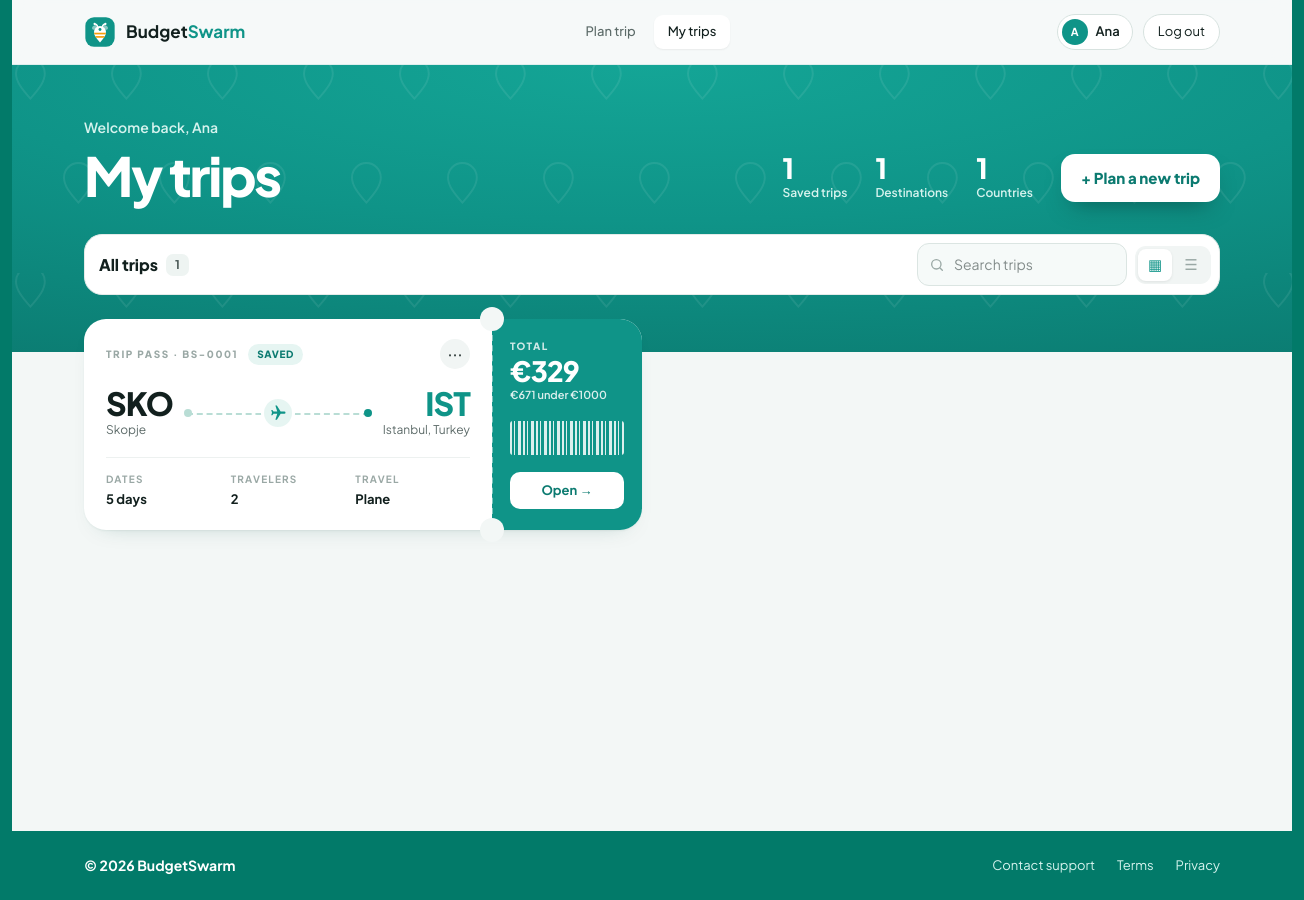
Scenario: MyTripsPage › deletes a trip optimistically and can undo
Expected: the text "Istanbul, Turkey" is shown, 383,421 -> 470,439
Click the button named "trip actions" at (455, 354), box 440,339 -> 470,369
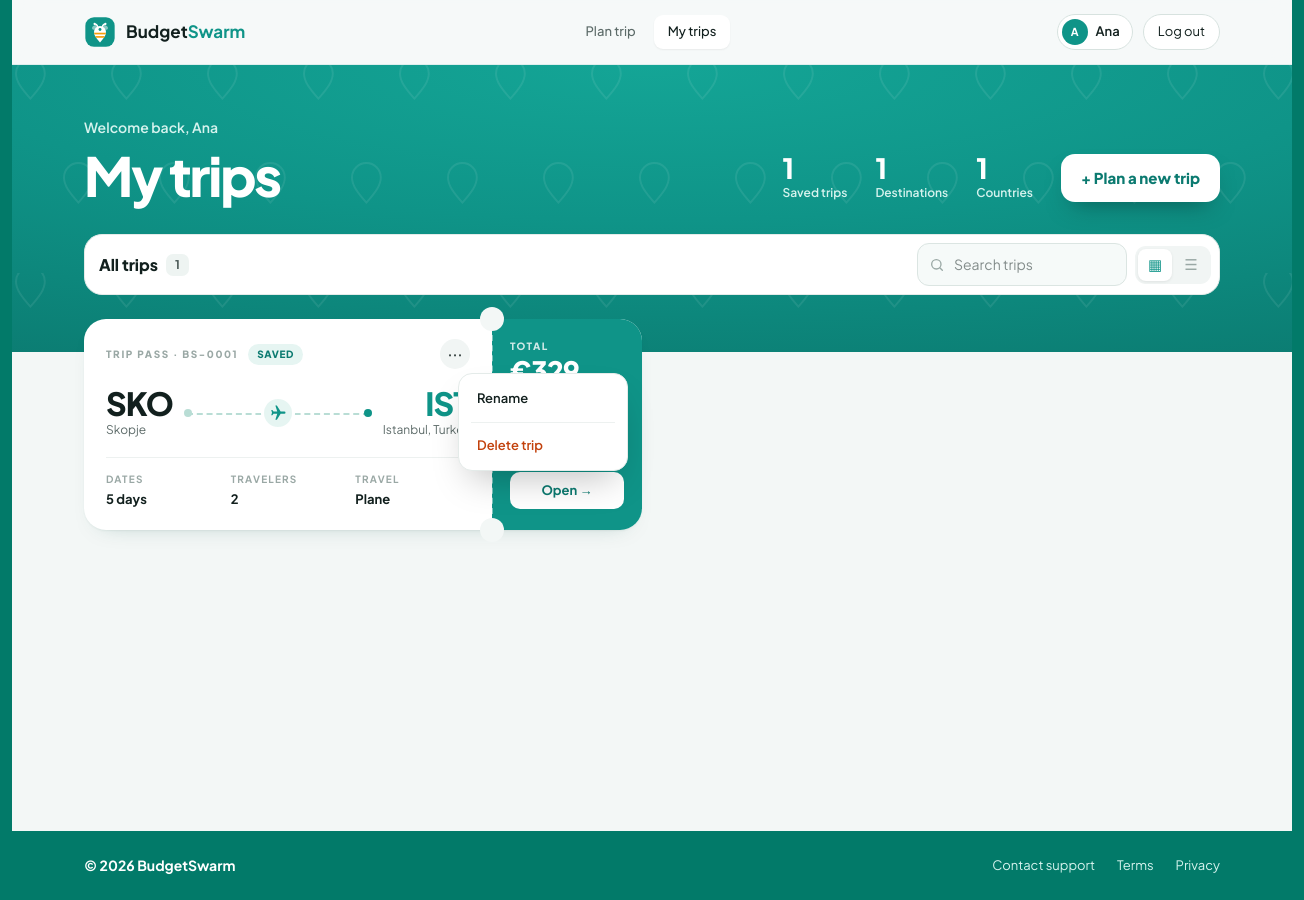
Click the menu item "Delete trip" at (543, 445), box 465,426 -> 621,464
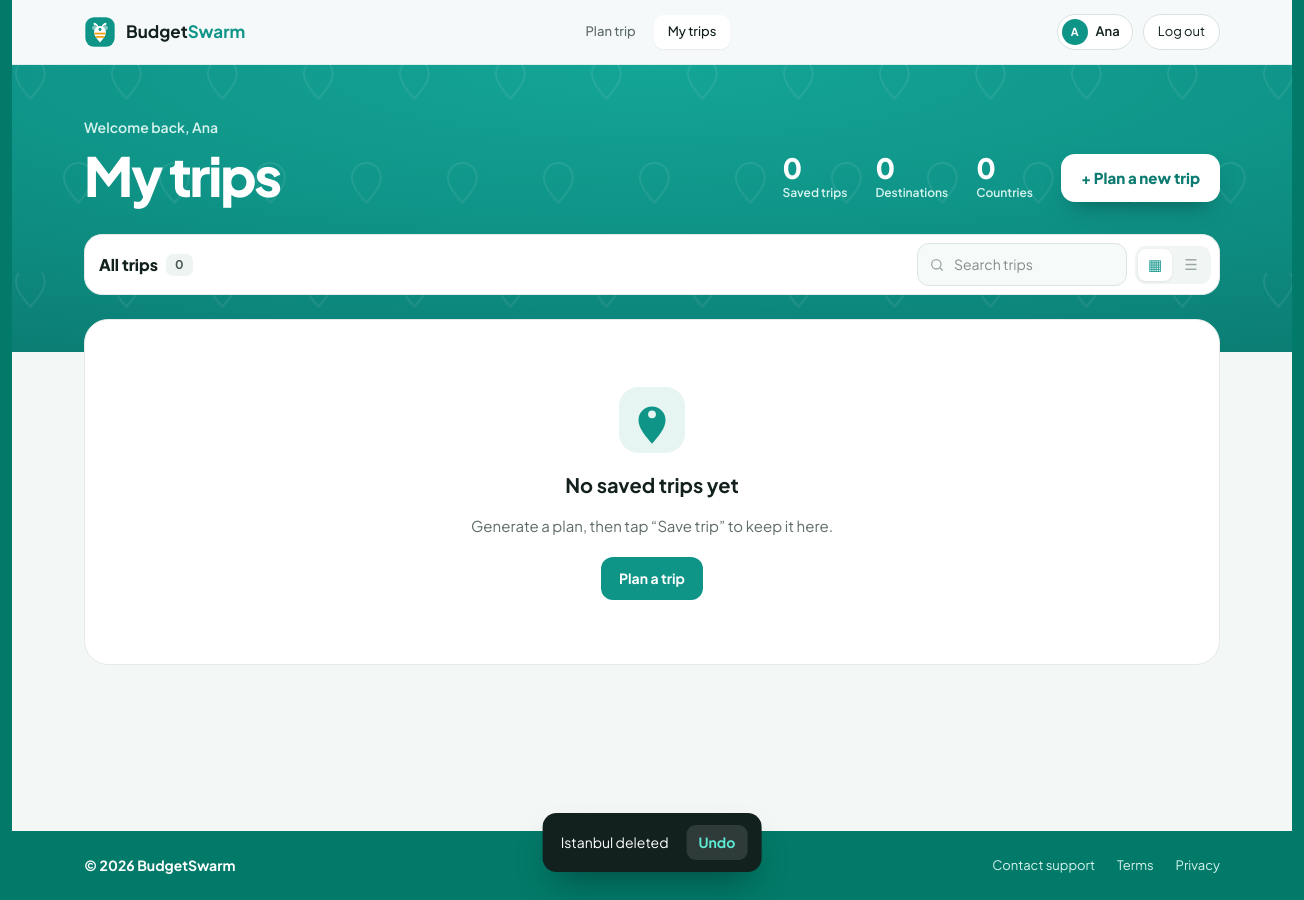
Expected: the text "Istanbul deleted" is shown, 561,832 -> 668,853
Click the button "Undo" at (717, 842), box 686,825 -> 747,860
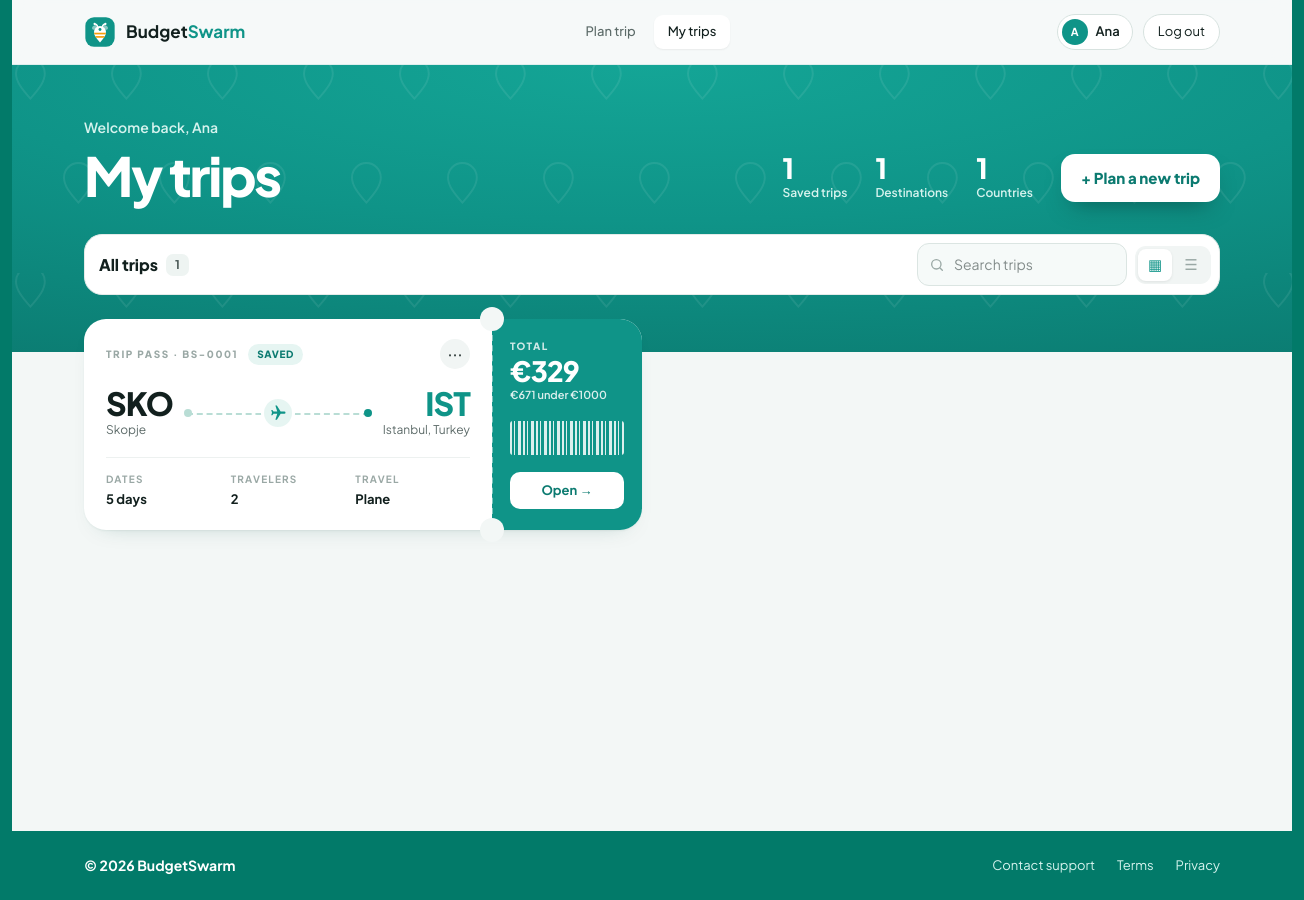
Expected: the text "Istanbul, Turkey" is shown, 383,421 -> 470,439
